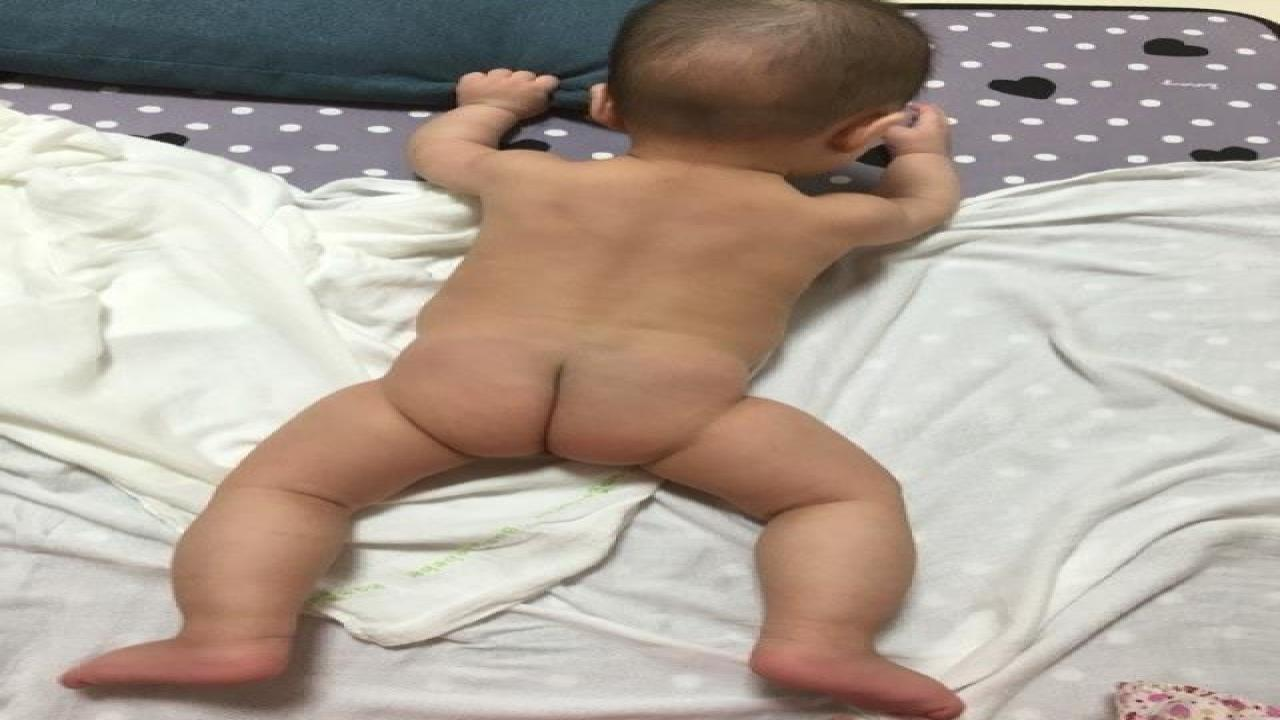hand: (454, 68, 560, 120), (875, 102, 951, 160)
